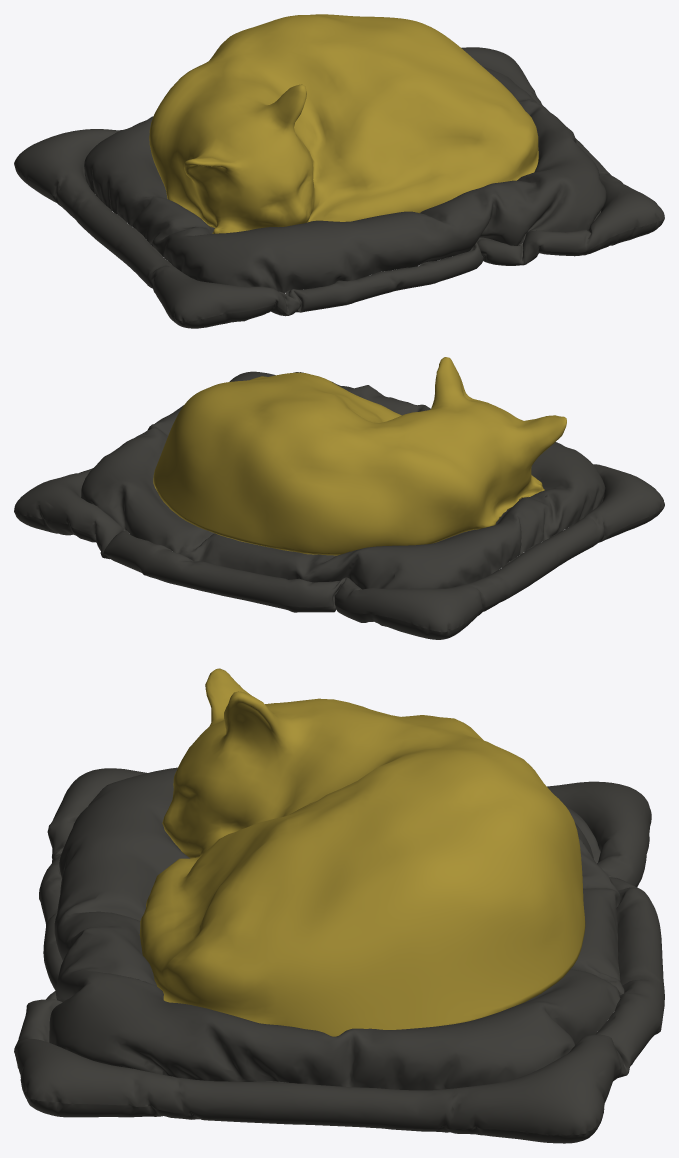
Rendered from cat.FBX.
3 renders of one model, top to bottom at view 1: azimuth 30°, elevation 25°; view 2: azimuth 150°, elevation 25°; view 3: azimuth 270°, elevation 25°, orthographic. The views are drawn at different scales.
Visible parts, largest first — view 1: cat0, cushion; view 2: cat0, cushion; view 3: cat0, cushion.
Part boxes in pixels (bbox=[...]): cat0: bbox=[149, 14, 538, 233]; cushion: bbox=[14, 47, 664, 328]; cat0: bbox=[153, 357, 566, 555]; cushion: bbox=[14, 371, 664, 639]; cat0: bbox=[139, 668, 585, 1036]; cushion: bbox=[14, 767, 664, 1143].
Size of the model in its own units: 563 by 175 by 444.
